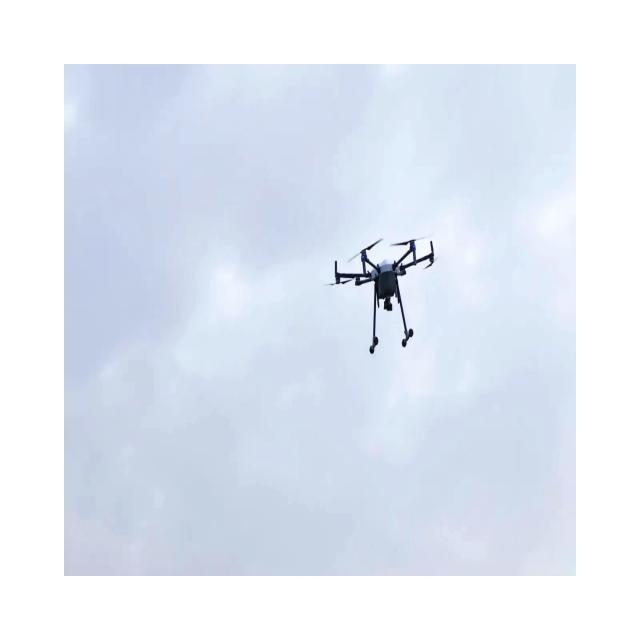drone: (324, 234, 438, 354)
